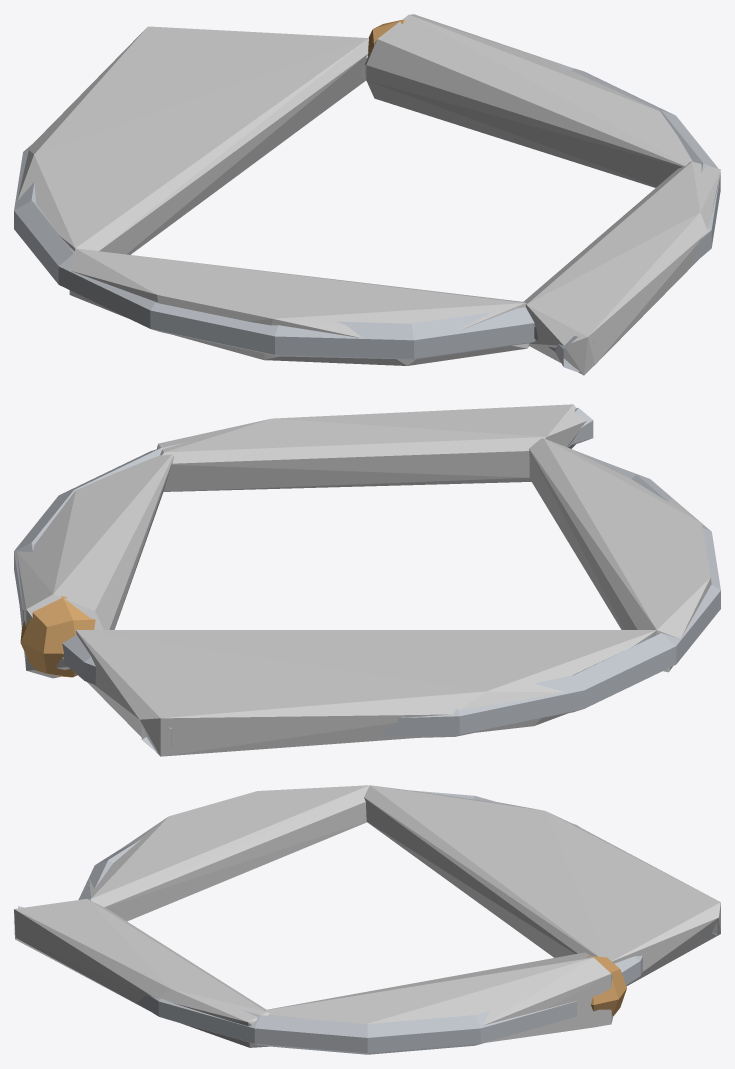
Rendered from SM_Prop_Constellation_Rings_01_Ring_02.fbx.
3 views of the same model, one above another, from view 1: azimuth 30°, elevation 25°; view 2: azimuth 150°, elevation 25°; view 3: azimuth 270°, elevation 25° (orthographic). The views are drawn at different scales.
Parts seen in each view (by area): view 1: SM_Prop_Constellation_Rings_01_Ring_02_ConvexHulls, SM_Prop_Constellation_Rings_01_Ring_02; view 2: SM_Prop_Constellation_Rings_01_Ring_02_ConvexHulls, SM_Prop_Constellation_Rings_01_Ring_02; view 3: SM_Prop_Constellation_Rings_01_Ring_02_ConvexHulls, SM_Prop_Constellation_Rings_01_Ring_02.
Boxes of the visible parts, x1,y1,x2,y2 form: SM_Prop_Constellation_Rings_01_Ring_02_ConvexHulls: (17,14,720,375); SM_Prop_Constellation_Rings_01_Ring_02: (14,19,720,372); SM_Prop_Constellation_Rings_01_Ring_02_ConvexHulls: (17,404,711,756); SM_Prop_Constellation_Rings_01_Ring_02: (14,407,720,752); SM_Prop_Constellation_Rings_01_Ring_02_ConvexHulls: (14,785,720,1047); SM_Prop_Constellation_Rings_01_Ring_02: (18,790,717,1054).
Bounding box in the file's own units: 110 × 132 × 14.36.
Materials: 2 (1 with a texture image).
